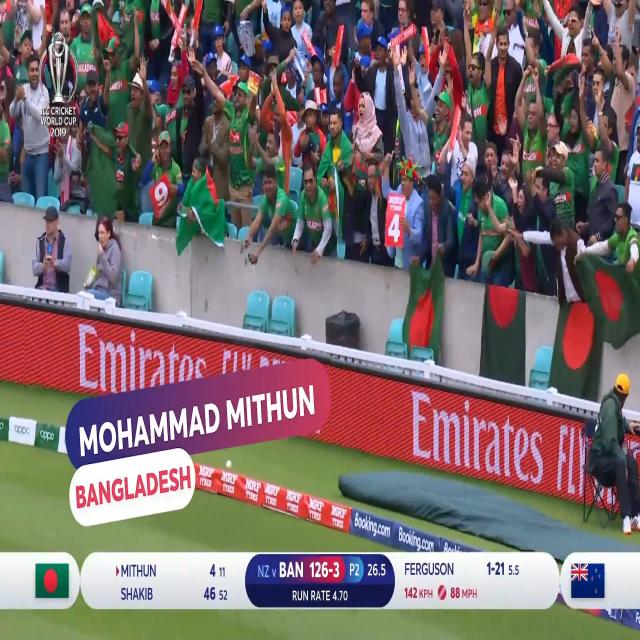ball: (223, 458, 238, 471)
